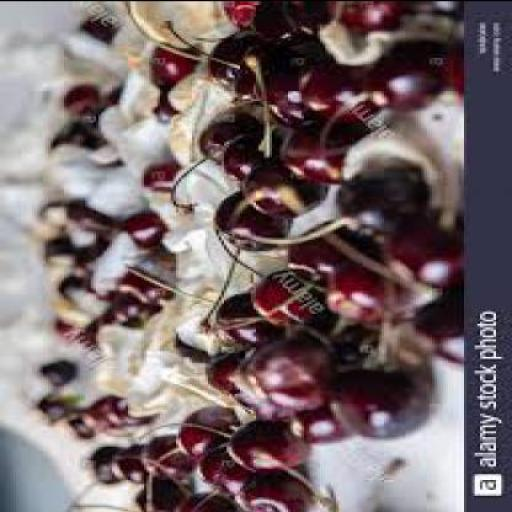biodegradable: (258, 41, 354, 131), (326, 367, 432, 440), (237, 338, 330, 412), (333, 166, 424, 234), (285, 222, 373, 292), (382, 210, 456, 290), (355, 45, 443, 111), (322, 257, 402, 328), (274, 123, 360, 183), (230, 45, 296, 111), (213, 194, 285, 252), (248, 272, 326, 324), (299, 67, 371, 123), (224, 424, 302, 473), (243, 164, 312, 218), (297, 315, 368, 366), (174, 406, 235, 459), (214, 297, 280, 344), (402, 290, 456, 344), (194, 123, 261, 166), (98, 270, 165, 312), (205, 32, 250, 94), (221, 136, 277, 184), (232, 476, 308, 511), (198, 444, 246, 498), (133, 434, 189, 480), (323, 2, 406, 31), (141, 46, 197, 88), (253, 2, 307, 45), (280, 2, 330, 41), (104, 291, 152, 331), (283, 412, 339, 444), (232, 391, 286, 424), (205, 352, 245, 394), (64, 228, 106, 268), (130, 480, 184, 511), (136, 164, 184, 198), (118, 213, 160, 250), (437, 45, 461, 105), (46, 126, 88, 160), (102, 397, 144, 430), (62, 200, 104, 232), (110, 446, 146, 482), (77, 14, 117, 46), (217, 2, 256, 34), (88, 445, 118, 485), (35, 358, 75, 387), (171, 494, 240, 510), (80, 399, 112, 432), (40, 234, 70, 268), (56, 276, 86, 310), (61, 86, 88, 123), (146, 89, 176, 121), (34, 396, 64, 426), (88, 139, 115, 166), (32, 207, 62, 231), (64, 419, 91, 443), (93, 86, 117, 113), (78, 322, 96, 356), (83, 108, 102, 134), (56, 321, 72, 345), (94, 311, 110, 330)
